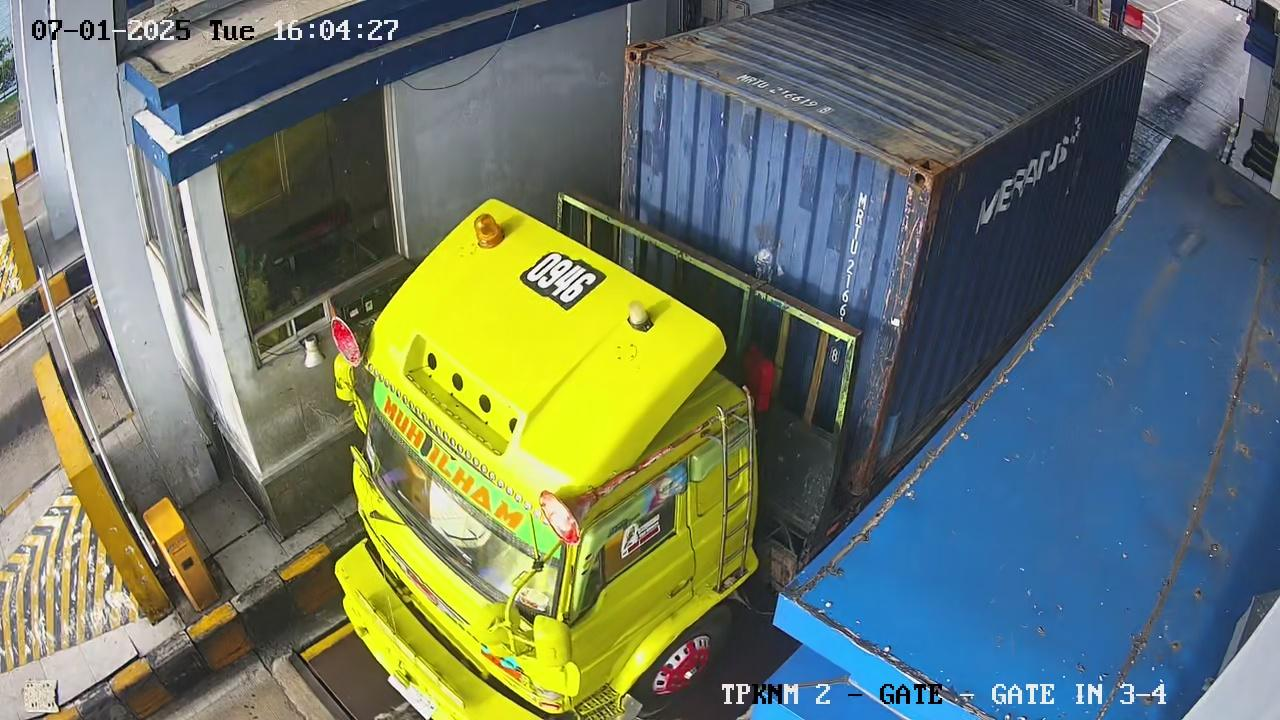Container_ID: (735, 71, 834, 115)
Container_ID_Vertikal: (822, 184, 876, 365)
truck_id: (519, 251, 605, 310)
